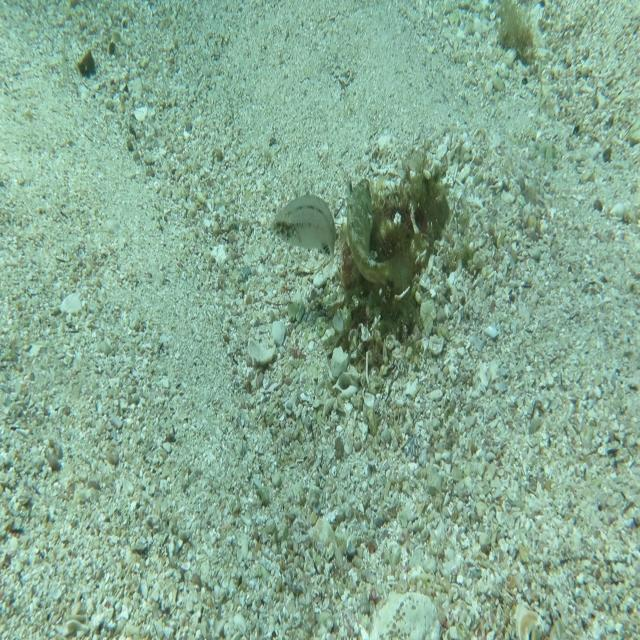BEND_OPP: (343, 171, 415, 295)
female: (270, 191, 336, 275)
nest: (332, 152, 464, 371)
